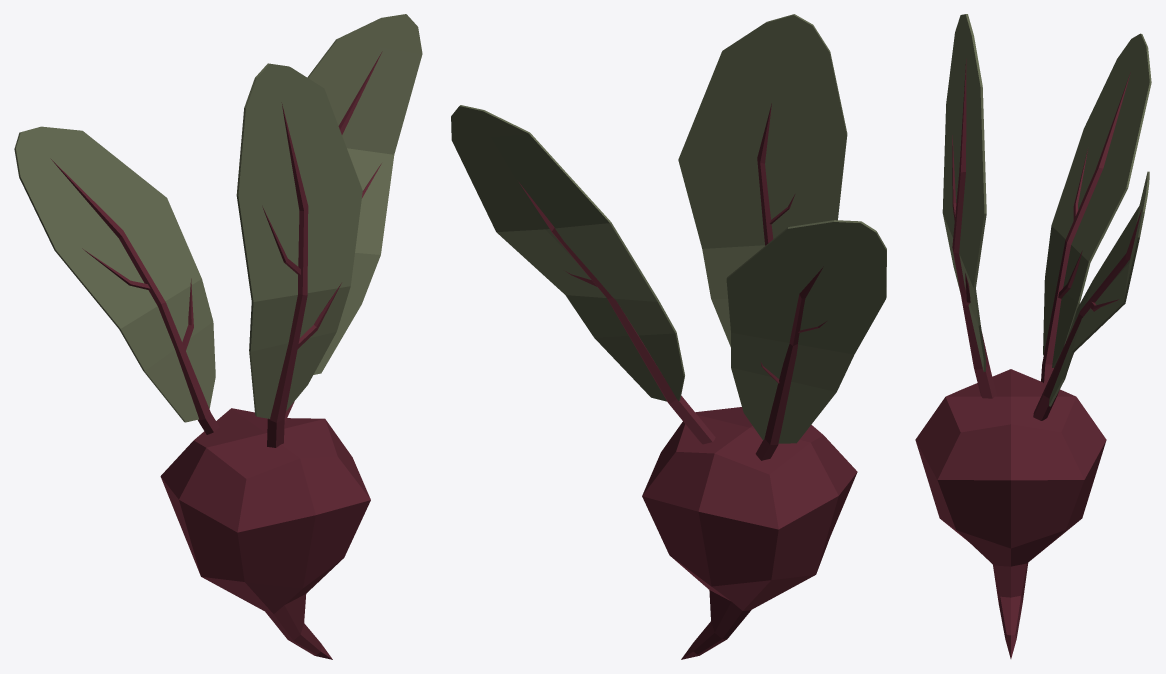
The model's file is beet_4.glb.
3 views of the same model, side by side, from view 1: azimuth 30°, elevation 25°; view 2: azimuth 150°, elevation 25°; view 3: azimuth 270°, elevation 25° (orthographic). The views are drawn at different scales.
Parts seen in each view (by area): view 1: DarkGreen, DarkRed; view 2: DarkGreen, DarkRed; view 3: DarkRed, DarkGreen.
Boxes of the visible parts, box(x1,y1,x2,y2) form: DarkGreen: box(14, 14, 422, 422); DarkRed: box(51, 51, 382, 659); DarkGreen: box(451, 14, 886, 443); DarkRed: box(519, 103, 857, 659); DarkRed: box(915, 59, 1141, 658); DarkGreen: box(942, 14, 1151, 406).
Bounding box in the file's own units: 0.7512 × 1.1 × 0.3899.
